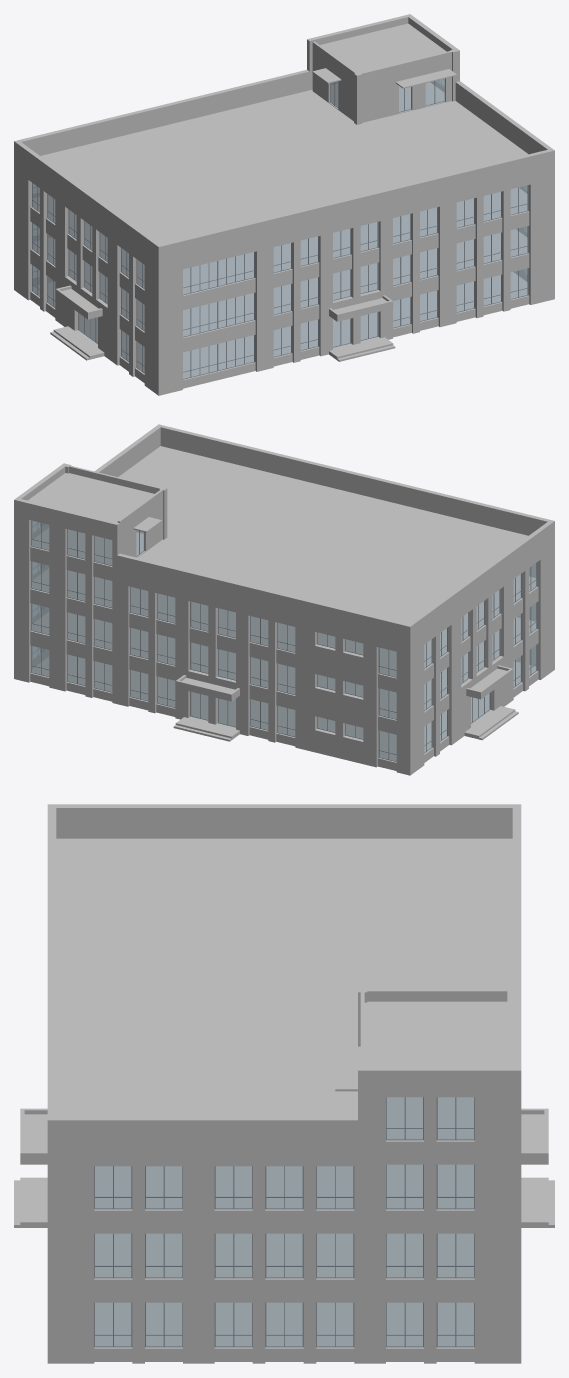
File: lou03.fbx
3 renders of one model, top to bottom at view 1: azimuth 30°, elevation 25°; view 2: azimuth 150°, elevation 25°; view 3: azimuth 270°, elevation 25°, orthographic. The views are drawn at different scales.
Visible parts, largest first — view 1: Obj3d66-1371392-3998-111; view 2: Obj3d66-1371392-3998-111; view 3: Obj3d66-1371392-3998-111.
Part boxes in pixels (left/top/right/bottom): Obj3d66-1371392-3998-111: left=14, top=14, right=554, bottom=395; Obj3d66-1371392-3998-111: left=14, top=424, right=554, bottom=775; Obj3d66-1371392-3998-111: left=14, top=804, right=554, bottom=1363.
Size of the model in its own units: 3700 by 1530 by 2560.
